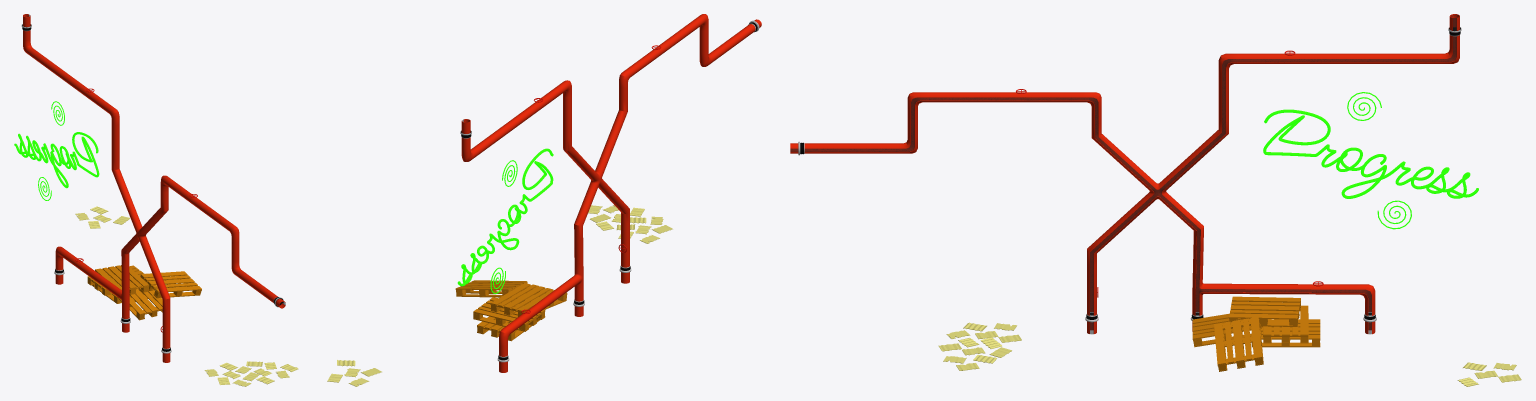
Rendered from Decoração Sala 1.fbx.
3 renders of one model, left to right at view 1: azimuth 30°, elevation 25°; view 2: azimuth 150°, elevation 25°; view 3: azimuth 270°, elevation 25°, orthographic. The views are drawn at different scales.
Visible parts, largest first — view 1: Cross Joint.006, ProgressNeon, PilhadePapel2.001, Pallet.004, Pallet.003, Pallet.005, PilhadePapel.002, Circle.062, Pallet.002; view 2: Cross Joint.006, ProgressNeon, PilhadePapel2.001, Pallet.005, Pallet.004, Pallet.002, PilhadePapel.002, Pallet.001; view 3: Cross Joint.006, Cross Joint.005, ProgressNeon, Pallet.004, Pallet.005, PilhadePapel2.001, Pallet.002, Pallet.003, Pallet.001, PilhadePapel.002.
Part boxes in pixels (box(x1,y1,x2,y2)): Cross Joint.006: box(23, 14, 285, 362); ProgressNeon: box(14, 132, 99, 188); PilhadePapel2.001: box(204, 361, 298, 386); Pallet.004: box(140, 271, 201, 298); Pallet.003: box(117, 281, 162, 320); Pallet.005: box(95, 265, 149, 294); PilhadePapel.002: box(75, 206, 129, 228); Circle.062: box(21, 24, 283, 353); Pallet.002: box(87, 265, 144, 295); Cross Joint.006: box(461, 14, 761, 372); ProgressNeon: box(457, 148, 553, 286); PilhadePapel2.001: box(588, 205, 672, 243); Pallet.005: box(490, 283, 553, 316); Pallet.004: box(455, 280, 527, 297); Pallet.002: box(473, 297, 545, 331); PilhadePapel.002: box(327, 360, 381, 386); Pallet.001: box(477, 316, 540, 341); Cross Joint.006: box(790, 14, 1459, 334); Cross Joint.005: box(790, 15, 1457, 334); ProgressNeon: box(1263, 109, 1478, 198); Pallet.004: box(1214, 316, 1263, 371); Pallet.005: box(1229, 296, 1300, 326); PilhadePapel2.001: box(938, 322, 1021, 370); Pallet.002: box(1263, 305, 1308, 343); Pallet.003: box(1192, 313, 1261, 347); Pallet.001: box(1251, 319, 1320, 347); PilhadePapel.002: box(1457, 362, 1521, 386).
Bounding box in the file's own units: 3618 × 7400 × 15517.
